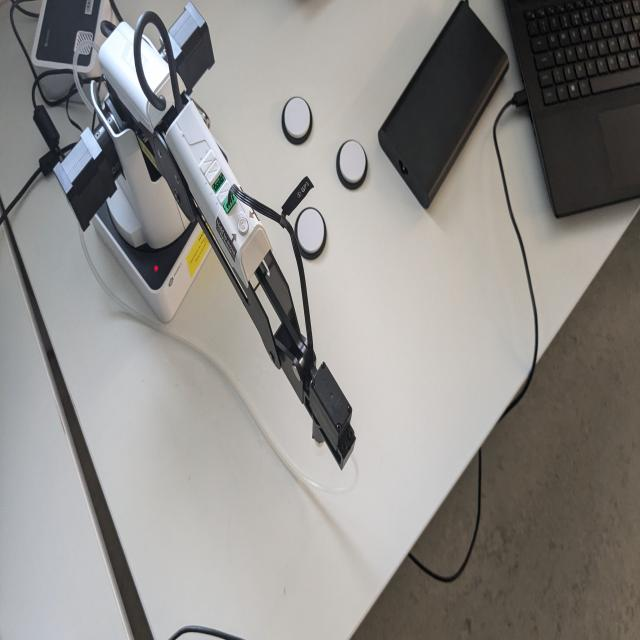Robot-end-effector-HF8z: (303, 357, 358, 473)
